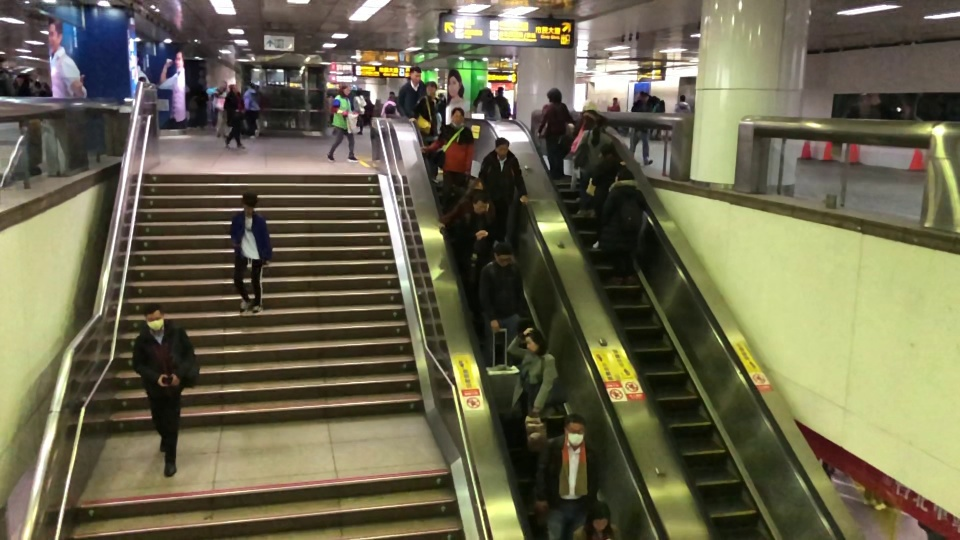person_head: (561, 413, 587, 446), (586, 501, 611, 531), (141, 303, 165, 333), (525, 328, 548, 356), (493, 241, 513, 266), (239, 192, 258, 216), (448, 106, 465, 126), (614, 166, 634, 183), (494, 137, 510, 158), (472, 194, 487, 216), (545, 87, 563, 105), (466, 177, 485, 194), (580, 98, 598, 115), (591, 116, 608, 132), (599, 142, 614, 160), (477, 86, 493, 102), (423, 80, 438, 97), (408, 66, 422, 84), (338, 84, 350, 98), (637, 90, 649, 104), (17, 74, 28, 86), (228, 84, 238, 93), (387, 94, 397, 103), (219, 80, 227, 91), (247, 82, 256, 91), (496, 86, 504, 96), (0, 56, 6, 69), (355, 87, 363, 96), (679, 94, 686, 103), (658, 99, 665, 108), (611, 97, 618, 104)
person_vbox: (130, 303, 195, 479), (532, 413, 599, 540), (444, 194, 501, 305), (597, 166, 648, 286), (420, 106, 474, 215), (477, 241, 524, 366), (228, 192, 272, 314), (478, 137, 528, 242), (506, 328, 558, 416), (573, 116, 613, 217), (408, 80, 446, 183), (591, 141, 626, 249), (536, 87, 576, 181), (439, 177, 496, 229), (326, 84, 360, 163), (572, 501, 622, 540), (628, 89, 653, 167), (223, 83, 247, 152), (570, 98, 608, 137), (396, 66, 425, 116), (205, 81, 228, 138), (242, 82, 261, 138), (352, 87, 372, 135), (474, 86, 501, 120), (648, 99, 665, 141), (0, 56, 15, 96), (493, 86, 510, 119), (607, 97, 621, 131), (380, 94, 400, 117), (15, 74, 31, 97), (674, 94, 692, 114)
